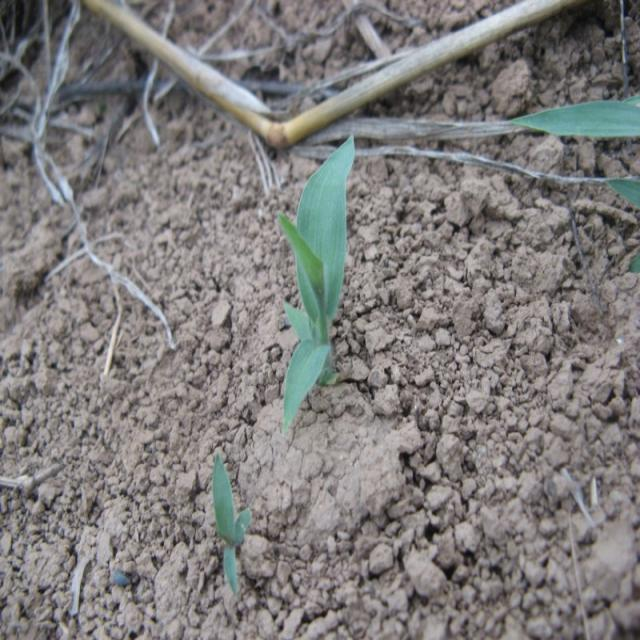bg: (274, 138, 358, 431)
